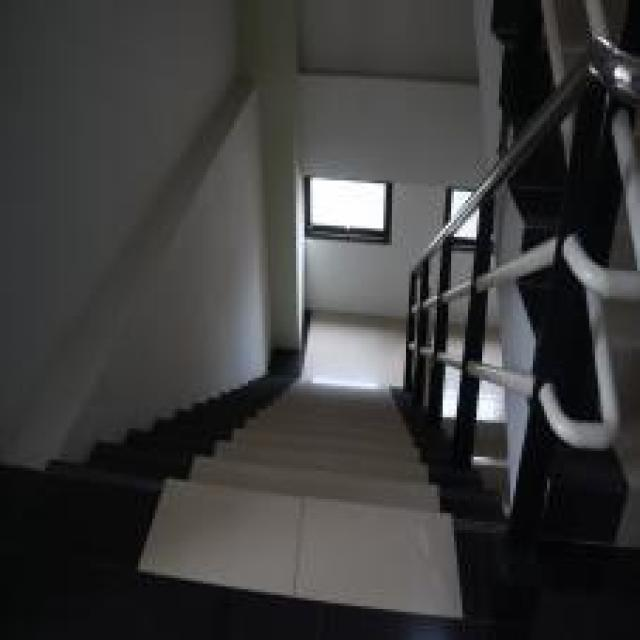downstair: (190, 342, 460, 638)
